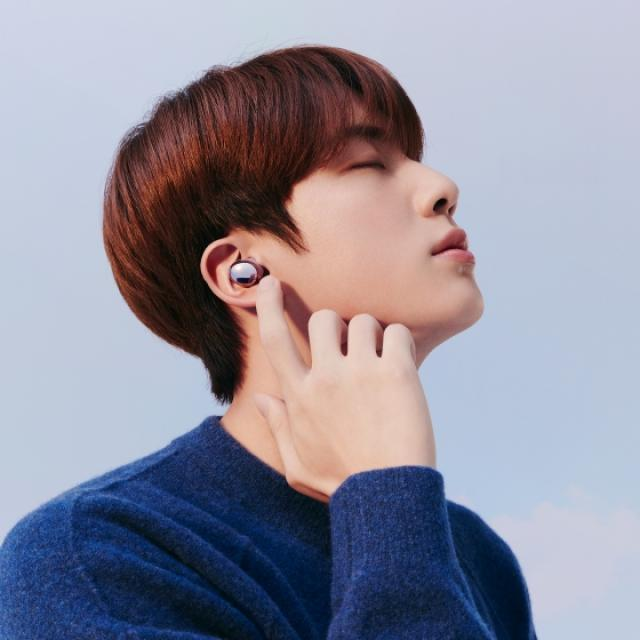earphone: (229, 231, 289, 309)
